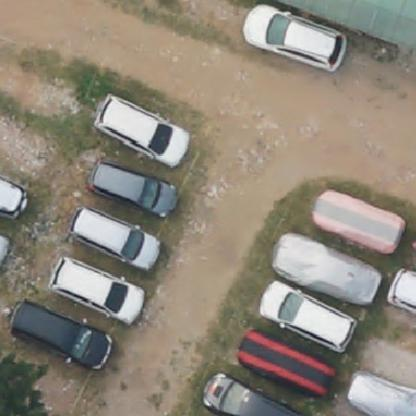car: (269, 235, 380, 304), (10, 303, 115, 373), (243, 3, 346, 73), (92, 96, 191, 168), (260, 281, 361, 351), (241, 328, 337, 395), (308, 186, 404, 252), (70, 205, 160, 270), (52, 259, 146, 321), (85, 160, 184, 215), (201, 374, 305, 415), (347, 372, 415, 415), (0, 176, 28, 223), (391, 266, 415, 312)
